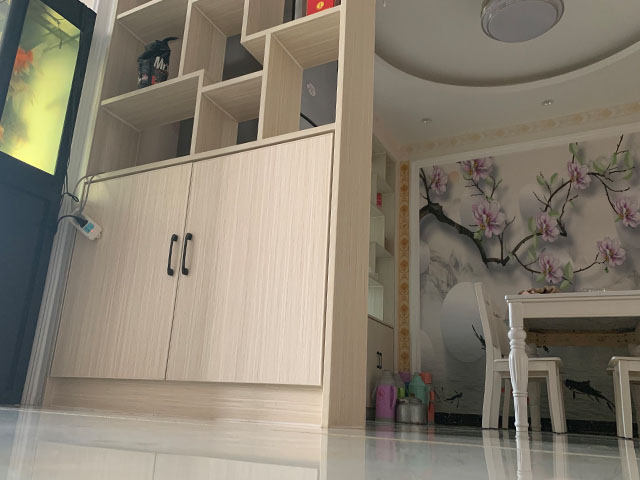cabinet: (40, 123, 350, 432), (366, 314, 399, 422)
stool: (473, 280, 569, 435)
table: (503, 289, 640, 436)
wire: (48, 163, 103, 245)
